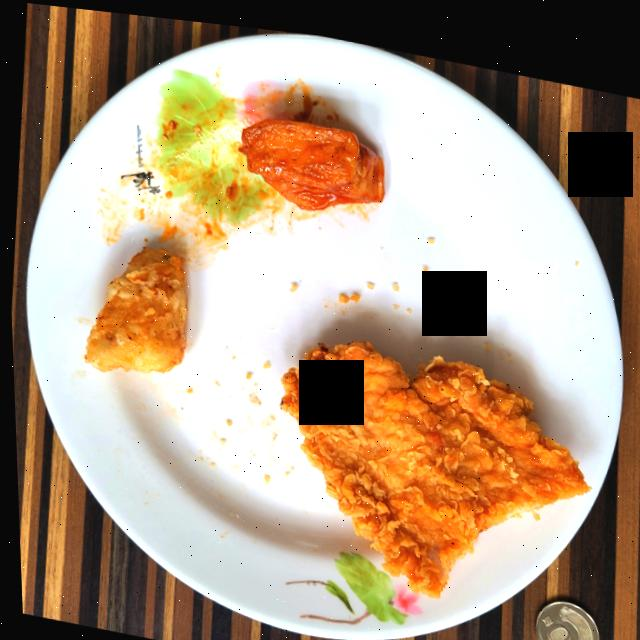coin: (531, 586, 595, 640)
creamy tofu: (238, 111, 383, 202)
fried chicken cutlet: (278, 332, 585, 586)
fried potato: (82, 243, 185, 368)
